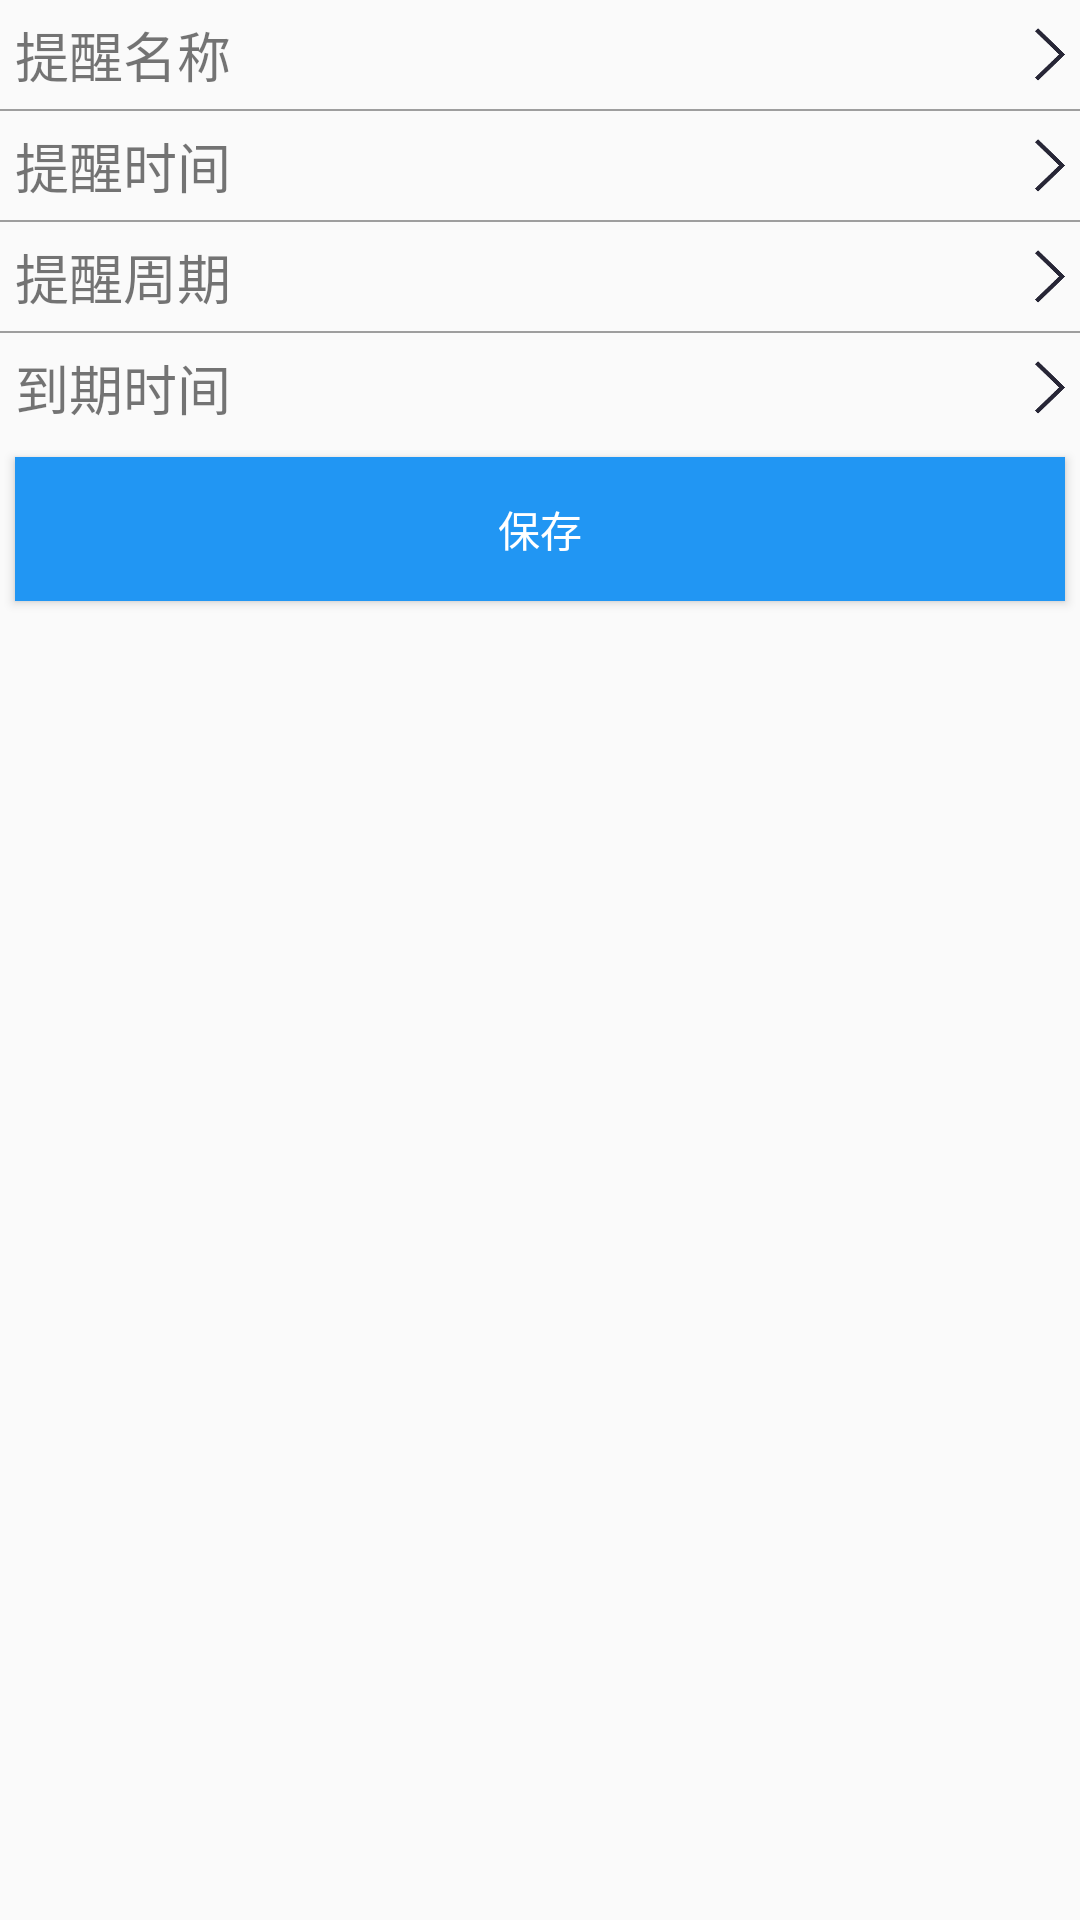

Screen size 1080×1920. Icon name, then its box in pixels as (x1, y1, x2, y2):
rightarrow: (1035, 28, 1065, 80), (1035, 139, 1065, 191), (1035, 250, 1065, 302), (1035, 361, 1065, 413)
